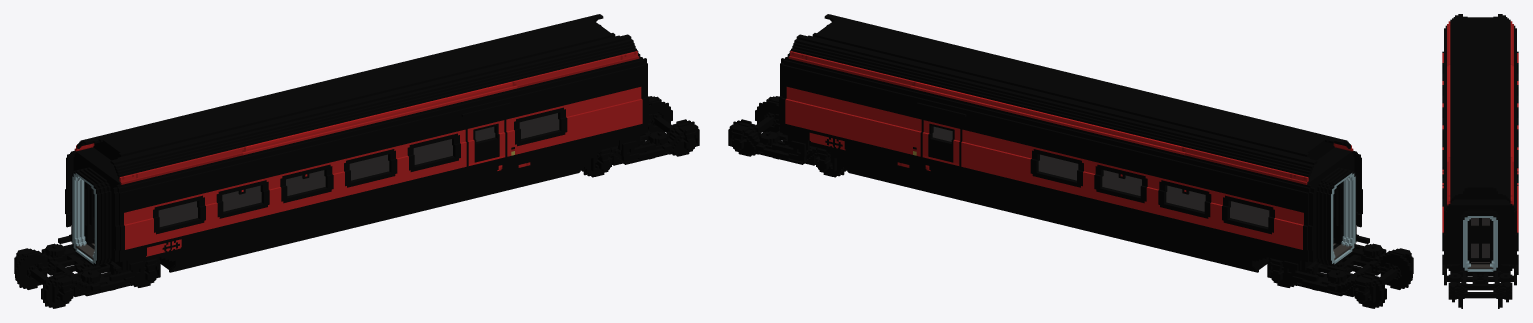
3 views of the same model, side by side, from view 1: azimuth 30°, elevation 25°; view 2: azimuth 150°, elevation 25°; view 3: azimuth 270°, elevation 25° (orthographic). The views are drawn at different scales.
Parts seen in each view (by area): view 1: FRAME_1, FRAME_2, INTERIOR_LCG_il_LINVERT_1, BOGEY_FRONT, DOOR_21_EXTERNAL_TL_0.1875_Z_TL_-1.125_X, INTERIOR_LCG_il_LINVERT_2, BOGEY_REAR, BOGEY_FRONT_WHEEL_1, BOGEY_REAR_WHEEL_2; view 2: FRAME_1, FRAME_2, INTERIOR_LCG_il_LINVERT_1, BOGEY_FRONT, DOOR_22_EXTERNAL_TL_-0.1875_Z_TL_-1.125_X, BOGEY_REAR, BOGEY_FRONT_WHEEL_1, BOGEY_REAR_WHEEL_2, INTERIOR_LCG_il_LINVERT_2; view 3: FRAME_2, FRAME_1, BOGEY_REAR, INTERIOR_LCG_il_LINVERT_2, BOGEY_REAR_WHEEL_2, DOOR_13_TL_0.375_Z_CG_d2_INTERIOR_LCG_il_LINVERT, DOOR_14_TL_-0.375_Z_CG_d2_INTERIOR_LCG_il_LINVERT.
Boxes of the visible parts, <box> form: FRAME_1: <box>58,77,383,281</box>; FRAME_2: <box>339,14,655,222</box>; INTERIOR_LCG_il_LINVERT_1: <box>72,170,381,264</box>; BOGEY_FRONT: <box>14,243,160,302</box>; DOOR_21_EXTERNAL_TL_0.1875_Z_TL_-1.125_X: <box>463,107,507,190</box>; INTERIOR_LCG_il_LINVERT_2: <box>349,113,560,179</box>; BOGEY_REAR: <box>591,96,699,171</box>; BOGEY_FRONT_WHEEL_1: <box>15,252,73,308</box>; BOGEY_REAR_WHEEL_2: <box>648,100,695,156</box>; FRAME_1: <box>1044,77,1369,281</box>; FRAME_2: <box>772,14,1088,222</box>; INTERIOR_LCG_il_LINVERT_1: <box>1046,170,1355,264</box>; BOGEY_FRONT: <box>1267,243,1413,302</box>; DOOR_22_EXTERNAL_TL_-0.1875_Z_TL_-1.125_X: <box>920,107,964,190</box>; BOGEY_REAR: <box>728,96,836,171</box>; BOGEY_FRONT_WHEEL_1: <box>1354,252,1412,308</box>; BOGEY_REAR_WHEEL_2: <box>732,100,779,156</box>; INTERIOR_LCG_il_LINVERT_2: <box>932,126,1078,179</box>; FRAME_2: <box>1442,102,1518,274</box>; FRAME_1: <box>1442,14,1518,145</box>; BOGEY_REAR: <box>1444,267,1516,302</box>; INTERIOR_LCG_il_LINVERT_2: <box>1463,216,1497,271</box>; BOGEY_REAR_WHEEL_2: <box>1456,281,1504,308</box>; DOOR_13_TL_0.375_Z_CG_d2_INTERIOR_LCG_il_LINVERT: <box>1471,218,1480,262</box>; DOOR_14_TL_-0.375_Z_CG_d2_INTERIOR_LCG_il_LINVERT: <box>1480,218,1489,262</box>.
Bounding box in the file's own units: 21.25 × 4.19 × 3.
Materials: 1 (1 with a texture image).
